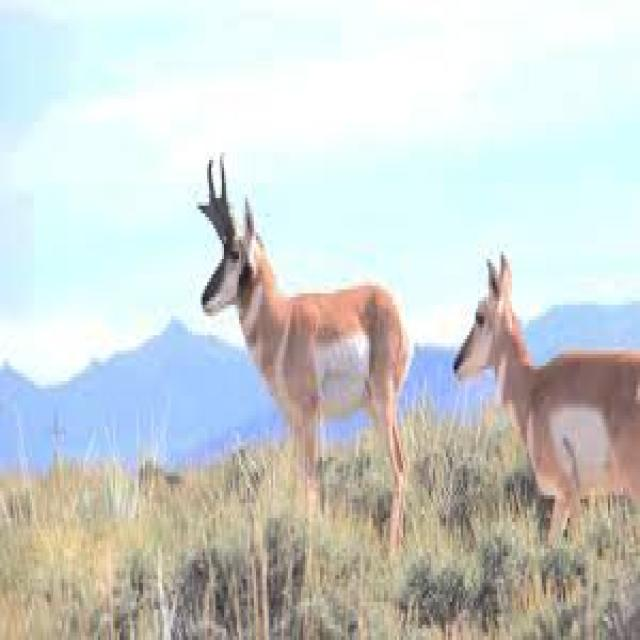Antelope: (192, 143, 414, 470), (448, 241, 640, 517)
